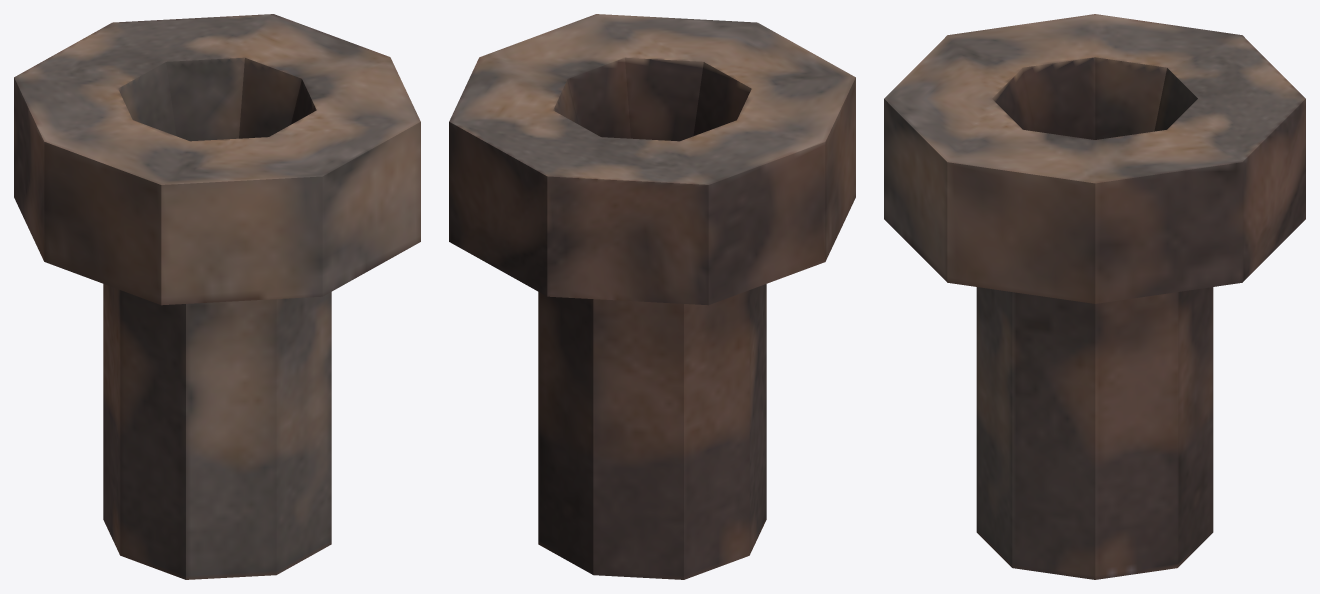
The model's file is SM_Short_Bolt.FBX.
3 views of the same model, side by side, from view 1: azimuth 30°, elevation 25°; view 2: azimuth 150°, elevation 25°; view 3: azimuth 270°, elevation 25° (orthographic).
Parts seen in each view (by area): view 1: SM_Short_Bolt; view 2: SM_Short_Bolt; view 3: SM_Short_Bolt.
Boxes of the visible parts, left/top/right/bottom form: SM_Short_Bolt: left=14, top=14, right=420, bottom=579; SM_Short_Bolt: left=449, top=14, right=855, bottom=579; SM_Short_Bolt: left=884, top=14, right=1305, bottom=579.
Bounding box in the file's own units: 2.75 × 2.9 × 3.28.
